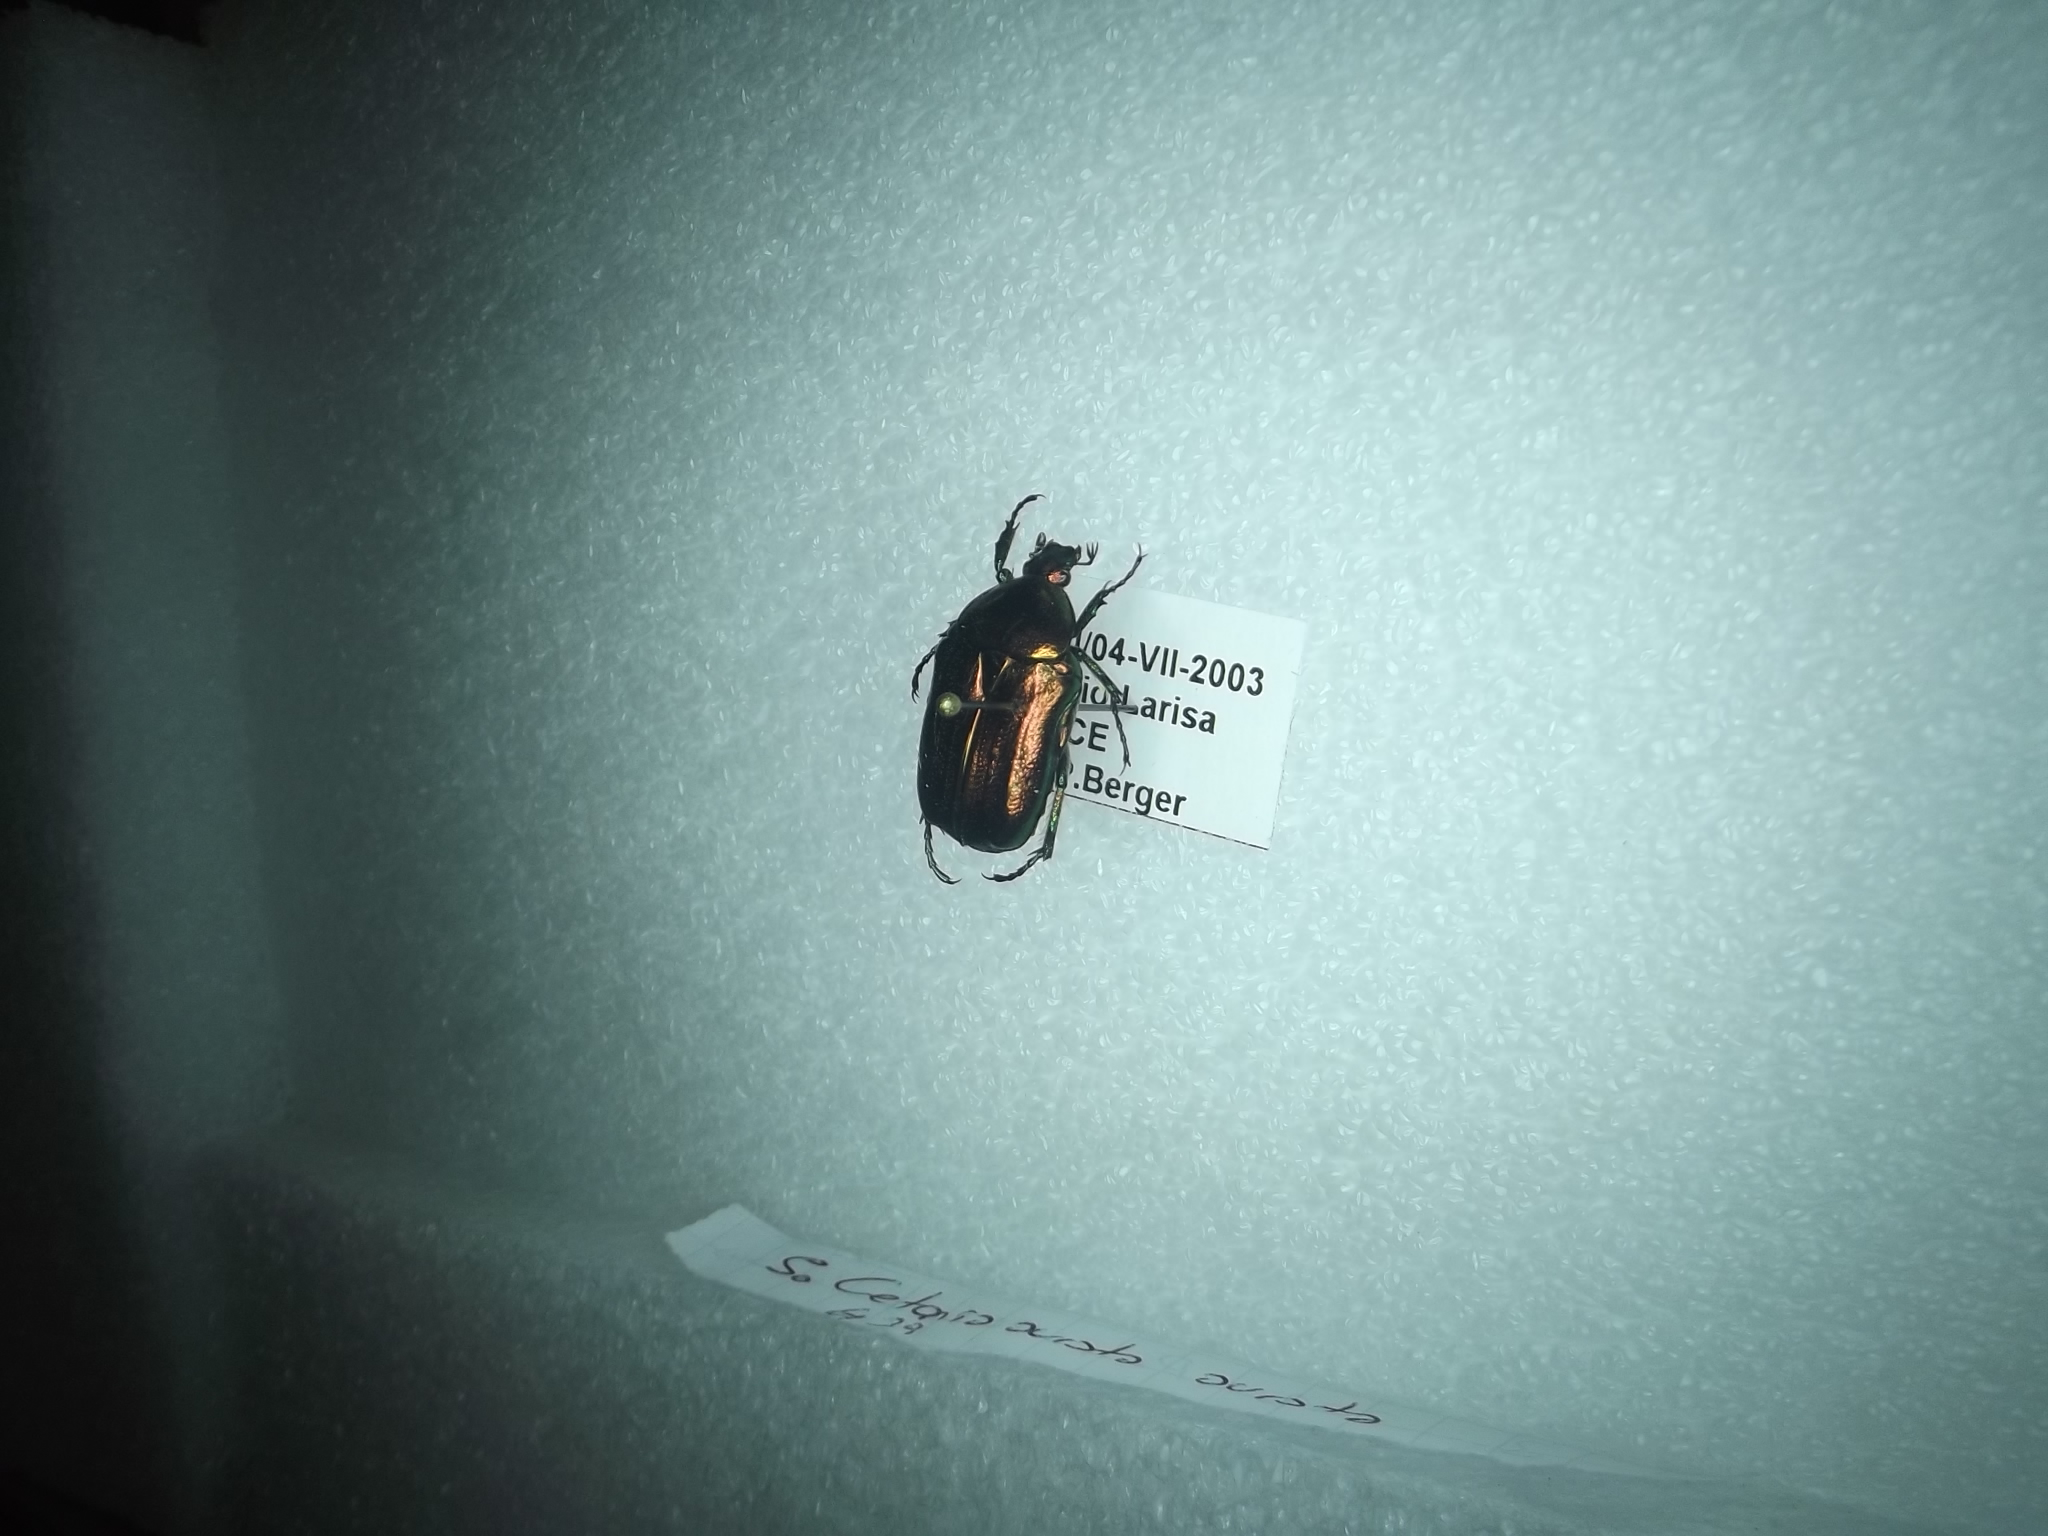Cetonia_aurata: (913, 487, 1180, 887)
